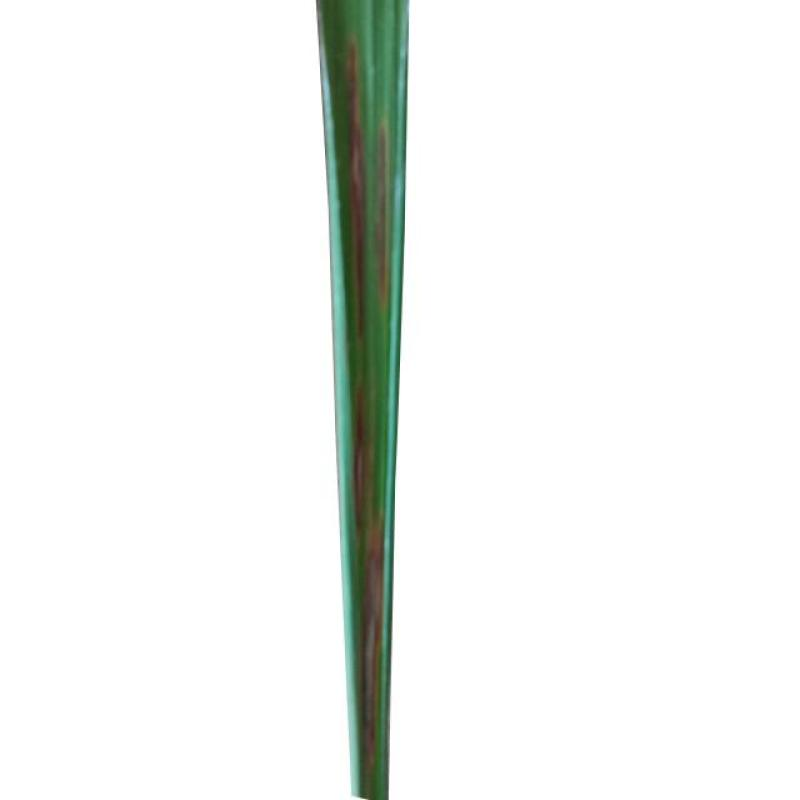Leaf_Blast: (355, 385, 384, 761), (339, 35, 371, 296)
